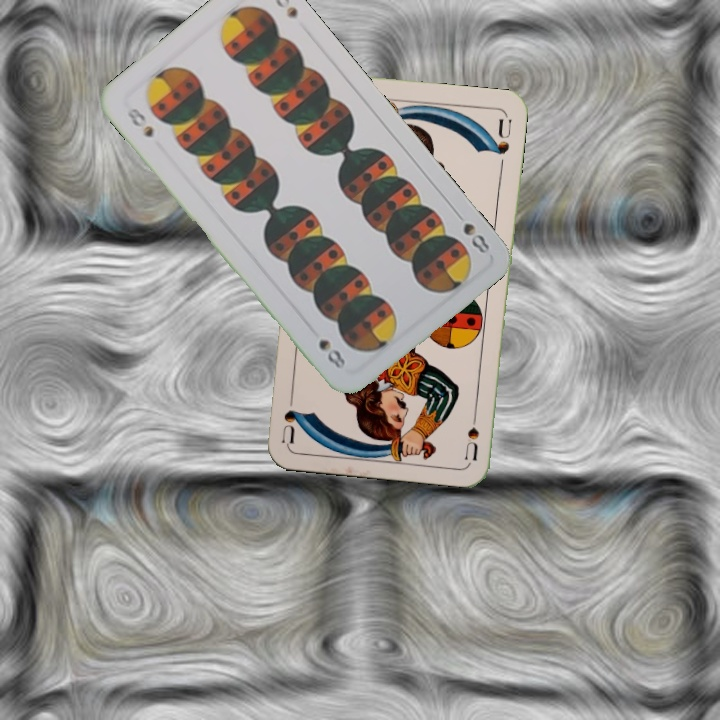S8: (449, 206, 493, 257), (122, 103, 157, 141)
SU: (460, 403, 482, 462)
